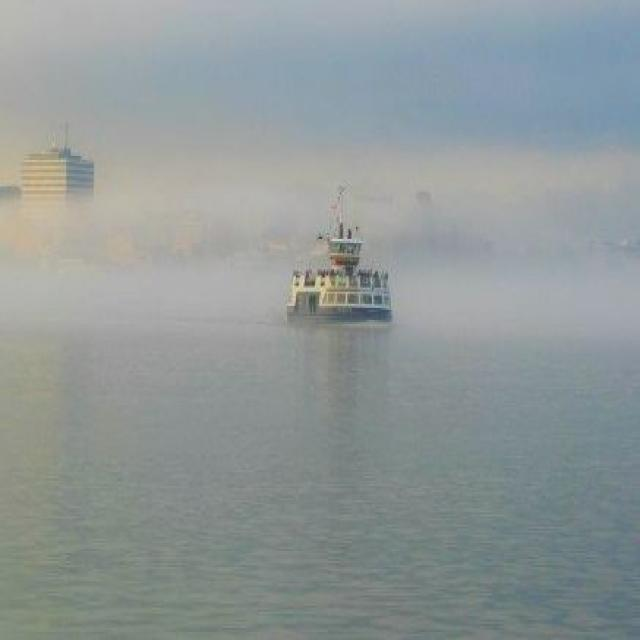passenger ship: (274, 210, 398, 324)
